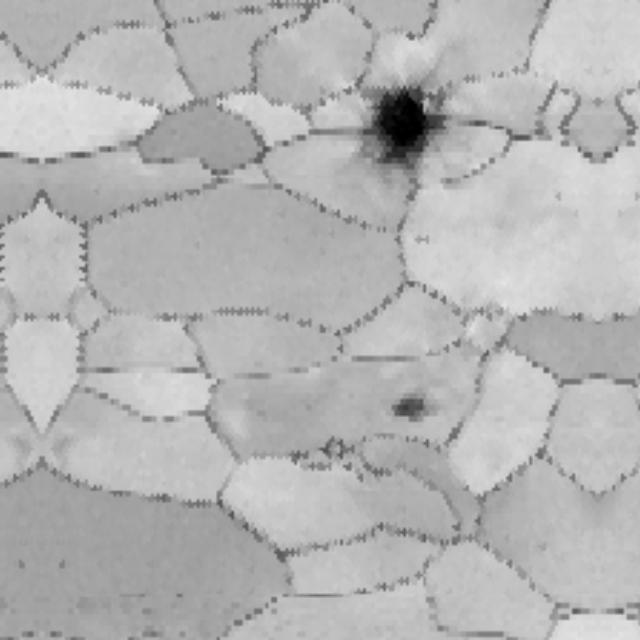good_void: (349, 81, 453, 203), (384, 382, 456, 428), (411, 234, 433, 249)
